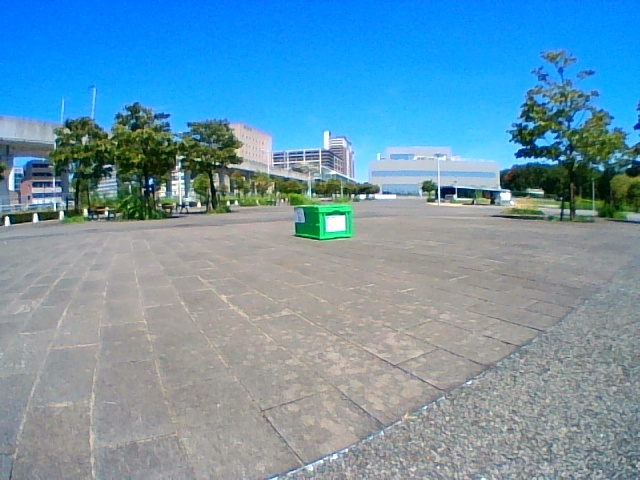green_box: (294, 204, 350, 239)
tag: (295, 209, 304, 222)
